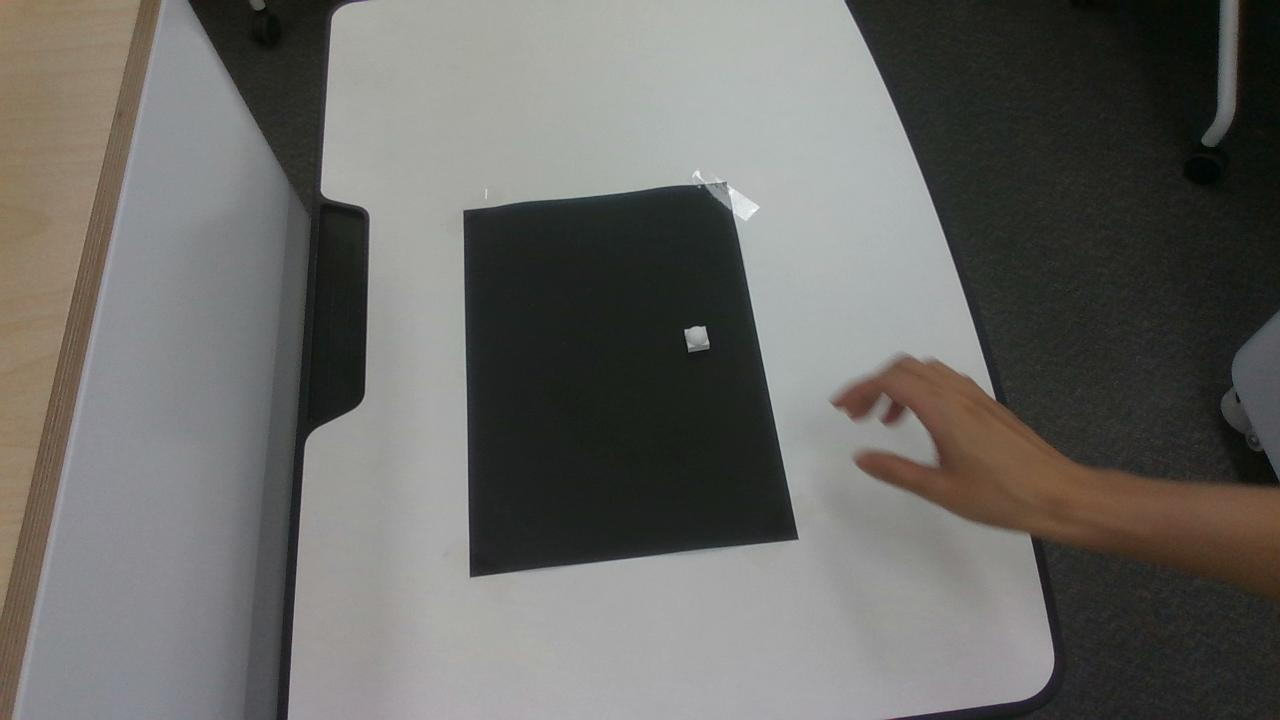cube: (686, 326, 708, 351)
